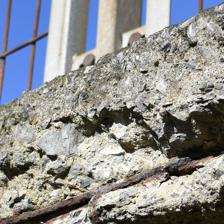Crack: (26, 49, 198, 119)
